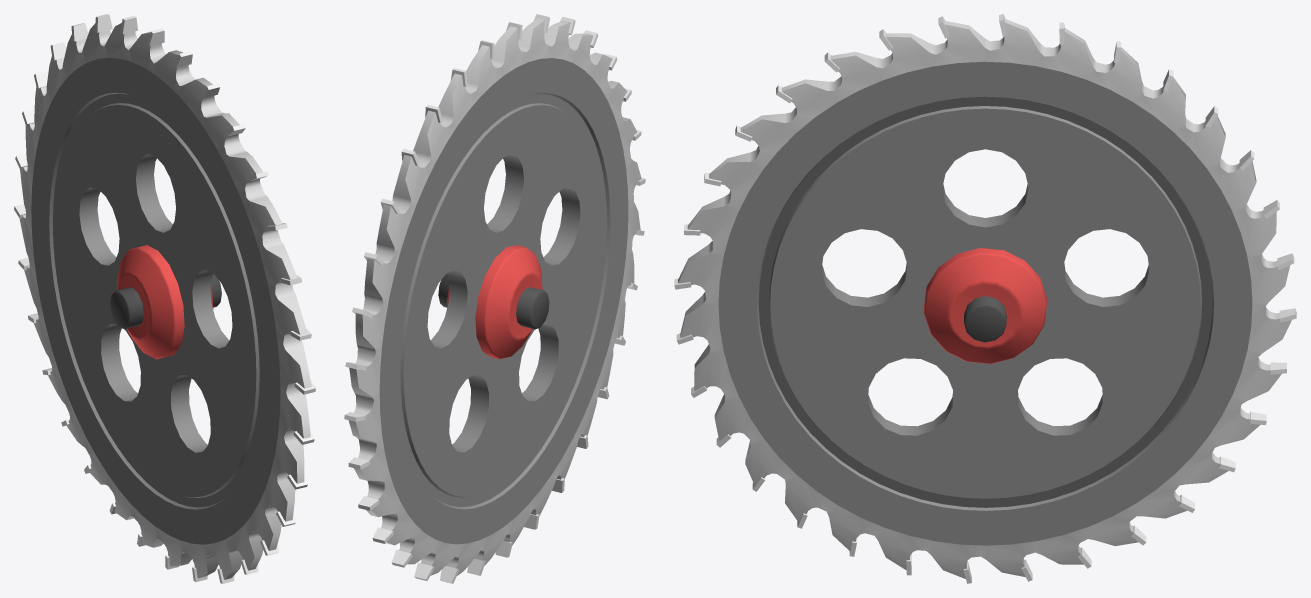
Rendered from obstacle_6_001.fbx.
3 views of the same model, side by side, from view 1: azimuth 30°, elevation 25°; view 2: azimuth 150°, elevation 25°; view 3: azimuth 270°, elevation 25° (orthographic). The views are drawn at different scales.
Visible parts, largest first — view 1: obstacle_6_001; view 2: obstacle_6_001; view 3: obstacle_6_001.
Boxes of the visible parts, x1,y1,x2,y2 form: obstacle_6_001: (14,14,315,583); obstacle_6_001: (344,14,645,583); obstacle_6_001: (674,14,1296,583).
Size of the model in its own units: 126 by 676 by 676.
